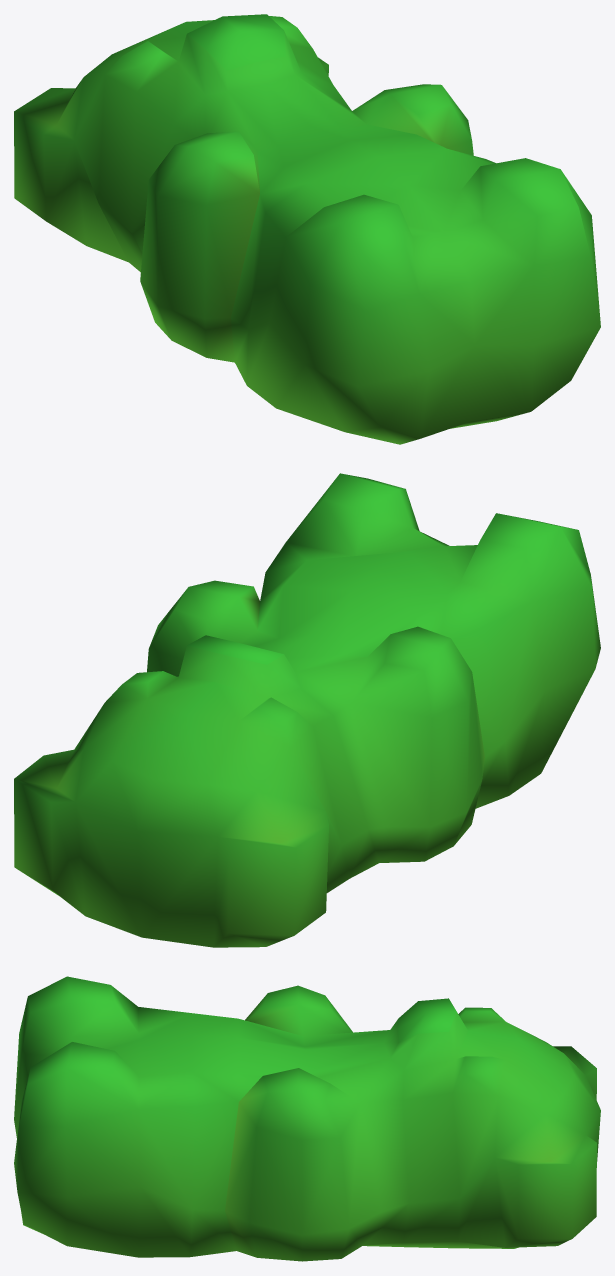
The model's file is consumables-sugar-gummybear_v4.glb.
3 views of the same model, one above another, from view 1: azimuth 30°, elevation 25°; view 2: azimuth 150°, elevation 25°; view 3: azimuth 270°, elevation 25° (orthographic). The views are drawn at different scales.
Visible parts, largest first — view 1: GummyBear_v4; view 2: GummyBear_v4; view 3: GummyBear_v4.
Boxes of the visible parts, x1=… form: GummyBear_v4: x1=14, y1=14, x2=600, y2=444; GummyBear_v4: x1=14, y1=473, x2=600, y2=947; GummyBear_v4: x1=14, y1=976, x2=600, y2=1261.
Bounding box in the file's own units: 0.0171 × 0.0133 × 0.0328.
